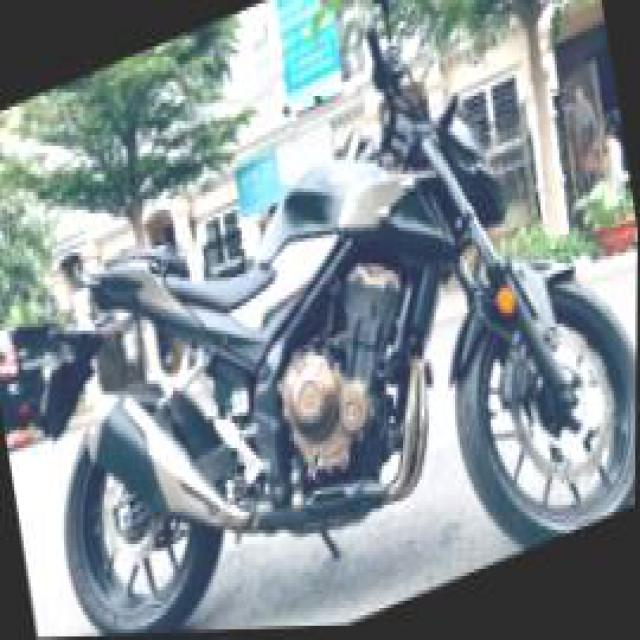CB500F: (17, 36, 638, 636)
